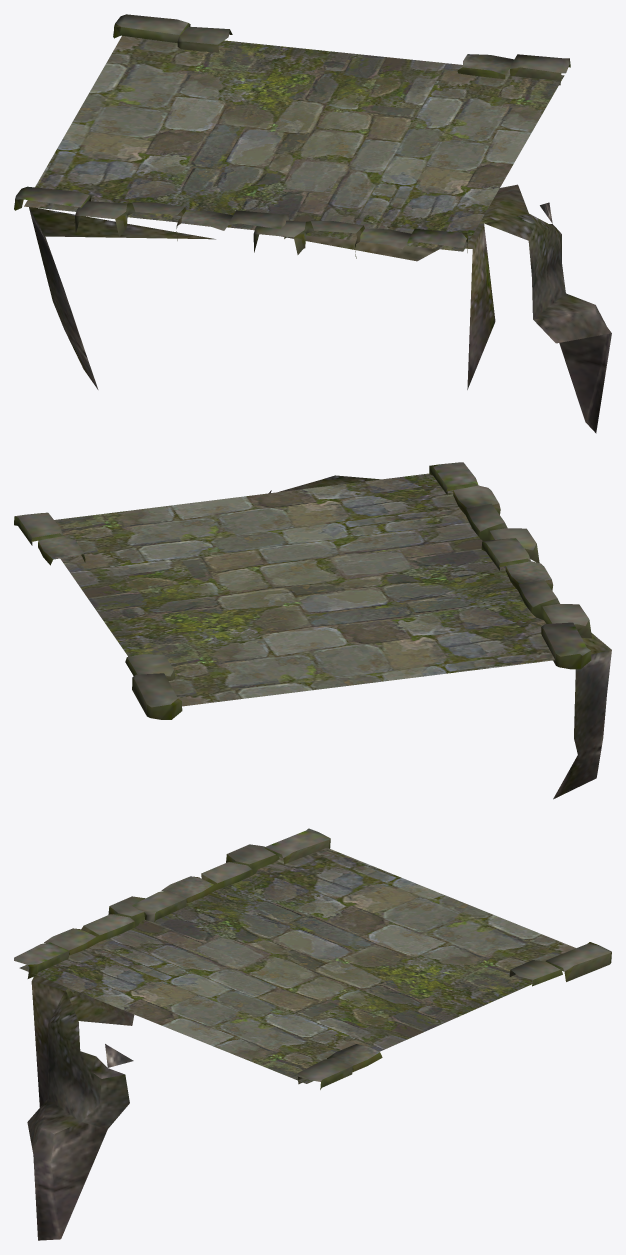
The model's file is S2_Build_XSC076_L1.FBX.
3 renders of one model, top to bottom at view 1: azimuth 30°, elevation 25°; view 2: azimuth 150°, elevation 25°; view 3: azimuth 270°, elevation 25°, orthographic. The views are drawn at different scales.
Parts seen in each view (by area): view 1: S2_Build_XSC076_L1; view 2: S2_Build_XSC076_L1; view 3: S2_Build_XSC076_L1.
Part boxes in pixels (x1,y1,x2,y2): S2_Build_XSC076_L1: (14,14,611,433); S2_Build_XSC076_L1: (14,462,611,799); S2_Build_XSC076_L1: (14,828,611,1240).
Bounding box in the file's own units: 2816 × 1124 × 2799.
